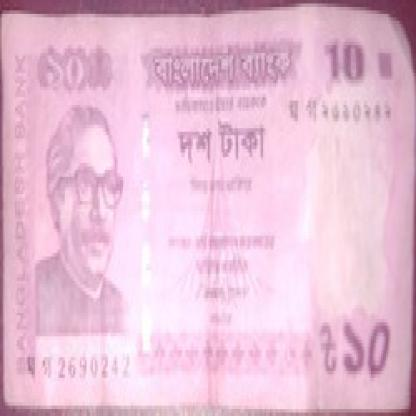Ten Taka: (341, 309, 401, 388), (33, 38, 95, 104), (323, 21, 364, 104)
